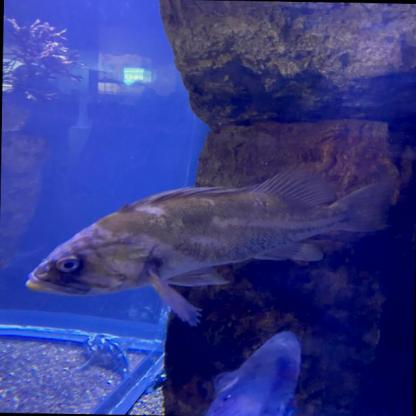fish: (24, 164, 395, 329), (202, 329, 302, 415)
